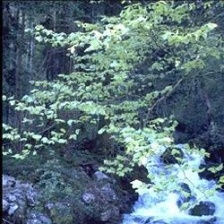neutral: (4, 2, 224, 223)
